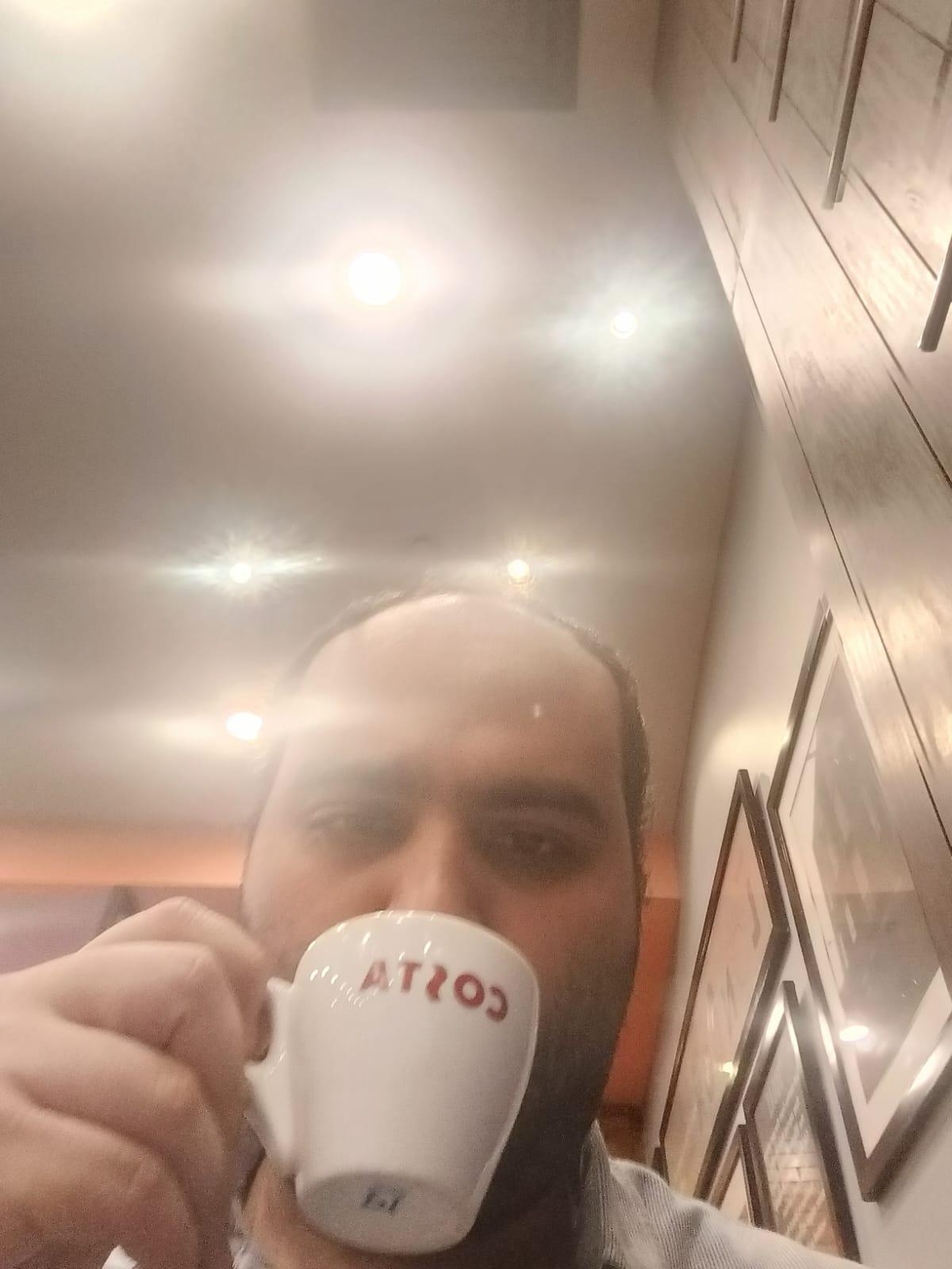cup: (246, 911, 538, 1253)
